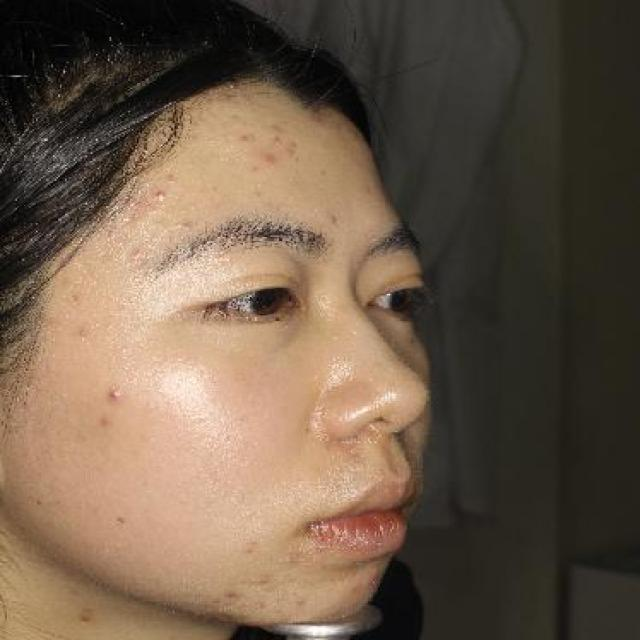papules: (258, 148, 280, 166)
pustules: (101, 385, 125, 403), (151, 186, 171, 202), (130, 246, 149, 262), (181, 218, 197, 234), (122, 197, 140, 209)
